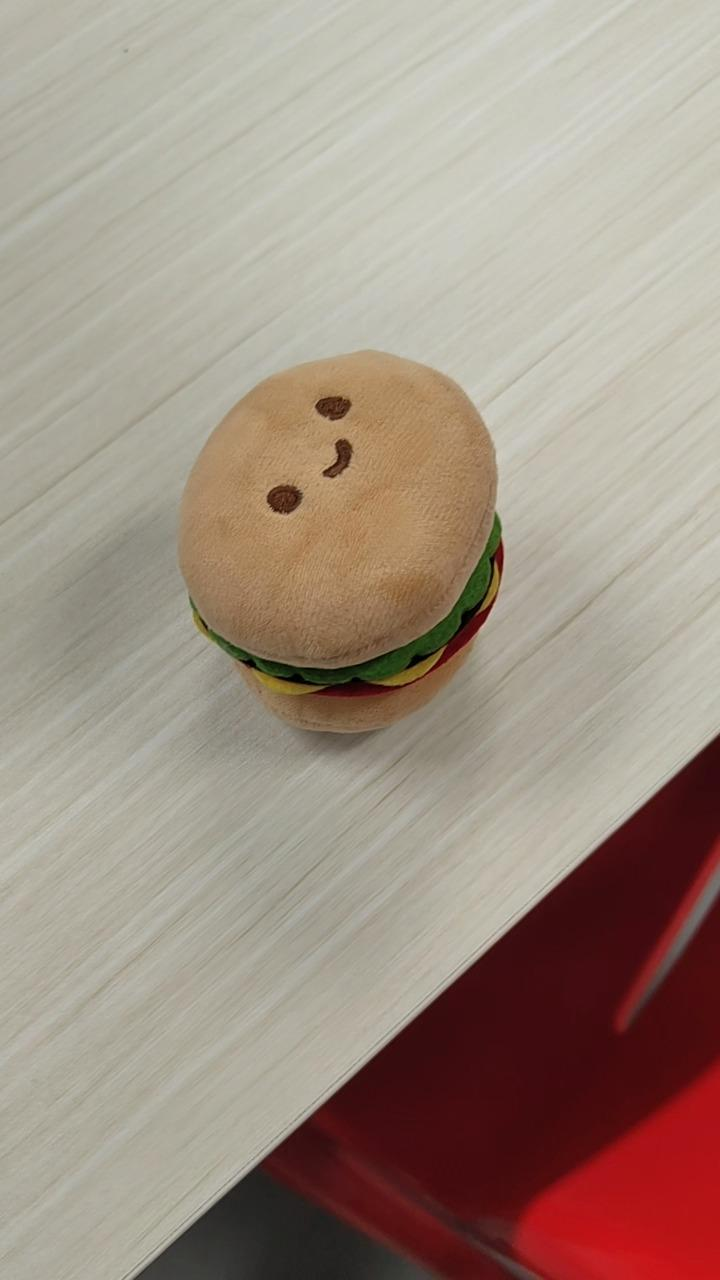hamburger: (176, 347, 505, 736)
